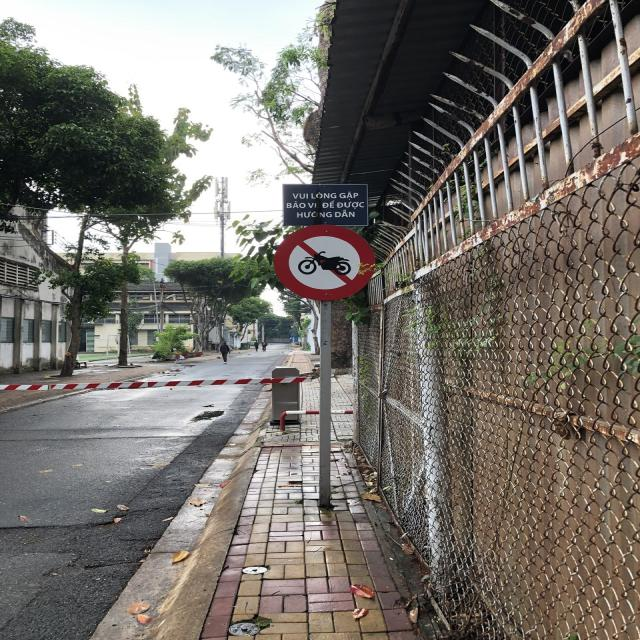Bien bao cam xe may: (266, 222, 381, 302)
